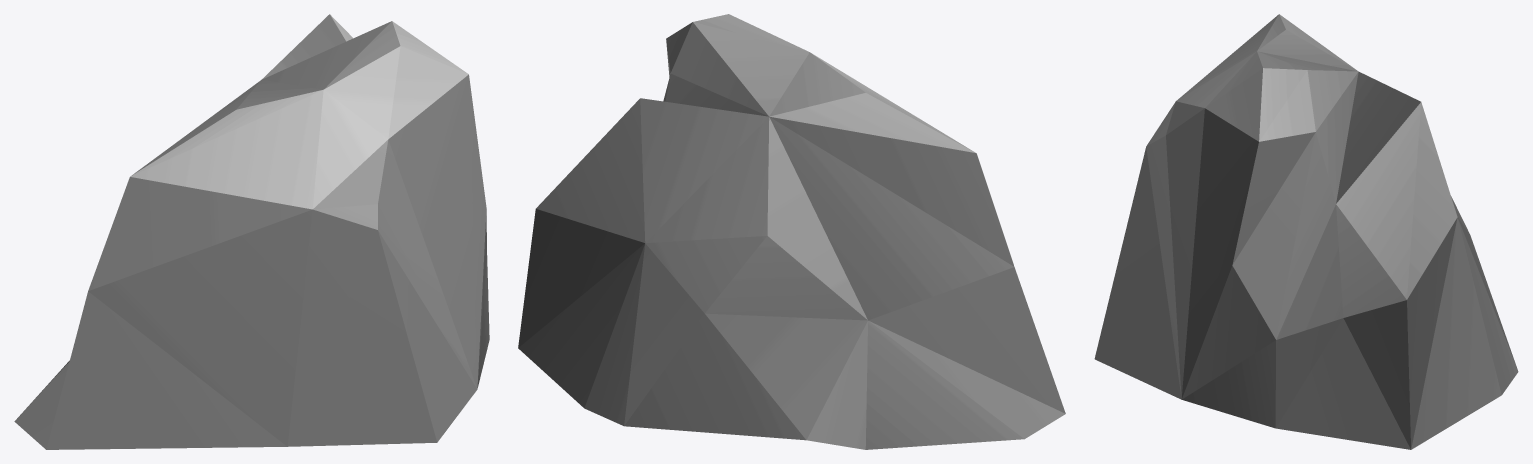
Rendered from GL-Rock-08-LOD2.fbx.
3 renders of one model, left to right at view 1: azimuth 30°, elevation 25°; view 2: azimuth 150°, elevation 25°; view 3: azimuth 270°, elevation 25°, orthographic. The views are drawn at different scales.
Visible parts, largest first — view 1: GL_Rock_08; view 2: GL_Rock_08; view 3: GL_Rock_08.
Part boxes in pixels (bbox=[...]): GL_Rock_08: bbox=[14, 14, 489, 449]; GL_Rock_08: bbox=[518, 14, 1065, 449]; GL_Rock_08: bbox=[1094, 14, 1518, 449].
Bounding box in the file's own units: 9.94 × 6.33 × 7.61.
